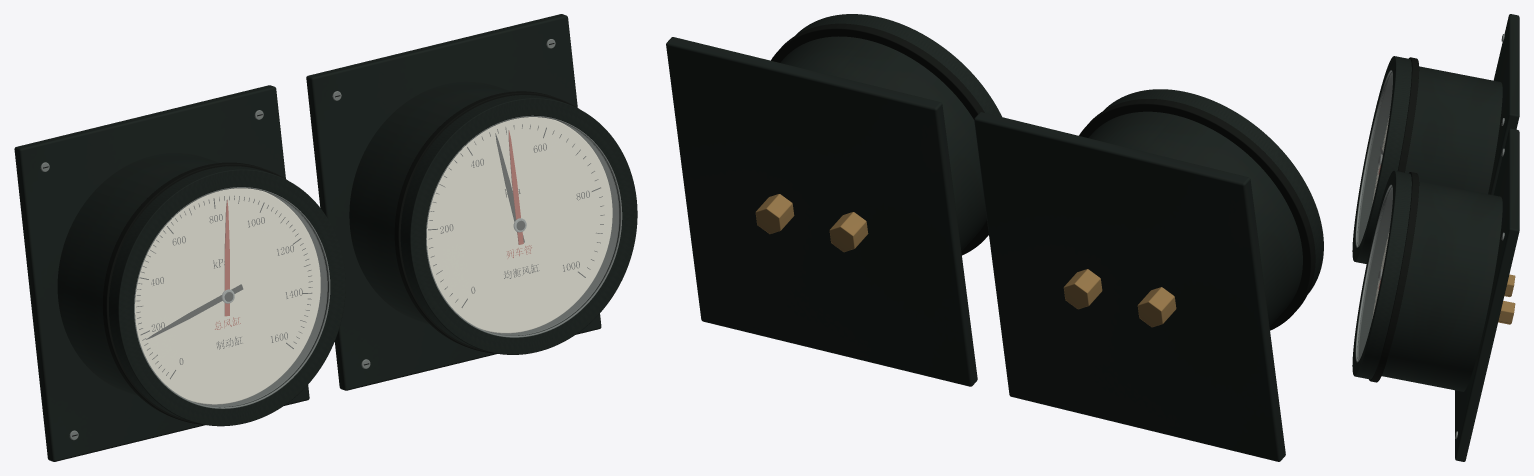
The model's file is duplex_air_gauges_study.glb.
The picture shows the model from 3 angles, left to right: view 1: azimuth 30°, elevation 25°; view 2: azimuth 150°, elevation 25°; view 3: azimuth 270°, elevation 25°; orthographic projection. The views are drawn at different scales.
Parts seen in each view (by area): view 1: MR_BC_Glass, BP_ER_Glass, MR_BC_Panel, BP_ER_Dial, MR_BC_Dial, BP_ER_Panel, MR_BC_Black_Bezel, BP_ER_Black_Bezel, BP_ER_SteelCase, MR_BC_SteelCase, MR_BC_Rubber_Seat, BP_ER_Rubber_Seat (+2 smaller); view 2: MR_BC_Panel, BP_ER_Panel, MR_BC_SteelCase, BP_ER_SteelCase, MR_BC_Rubber_Seat, MR_BC_Black_Bezel, BP_ER_Rubber_Seat, BP_ER_Black_Bezel, BP_ER_RearSocket_Red, MR_BC_RearSocket_Red, BP_ER_RearSocket_Black, MR_BC_RearSocket_Black; view 3: BP_ER_SteelCase, MR_BC_SteelCase, BP_ER_Black_Bezel, BP_ER_Panel, MR_BC_Black_Bezel, MR_BC_Panel, BP_ER_Glass, MR_BC_Glass, BP_ER_Rubber_Seat, MR_BC_Rubber_Seat, BP_ER_Steel_Inner_Lip, MR_BC_Steel_Inner_Lip (+1 smaller).
Boxes of the visible parts, x1,y1,x2,y2 form: MR_BC_Glass: (135, 188, 327, 406); BP_ER_Glass: (427, 117, 619, 335); MR_BC_Panel: (14, 85, 309, 461); BP_ER_Dial: (427, 117, 612, 333); MR_BC_Dial: (135, 188, 320, 404); BP_ER_Panel: (306, 14, 601, 390); MR_BC_Black_Bezel: (109, 166, 345, 426); BP_ER_Black_Bezel: (400, 95, 637, 354); BP_ER_SteelCase: (349, 81, 511, 330); MR_BC_SteelCase: (57, 153, 219, 402); MR_BC_Rubber_Seat: (102, 162, 302, 424); BP_ER_Rubber_Seat: (394, 91, 598, 353); MR_BC_Panel: (974, 112, 1285, 461); BP_ER_Panel: (666, 37, 977, 386); MR_BC_SteelCase: (1088, 111, 1302, 326); BP_ER_SteelCase: (780, 36, 986, 250); MR_BC_Rubber_Seat: (1079, 99, 1315, 330); MR_BC_Black_Bezel: (1103, 89, 1323, 293); BP_ER_Rubber_Seat: (771, 23, 988, 255); BP_ER_Black_Bezel: (795, 14, 1001, 116); BP_ER_RearSocket_Red: (829, 212, 868, 252); MR_BC_RearSocket_Red: (1137, 287, 1176, 327); BP_ER_RearSocket_Black: (755, 194, 794, 233); MR_BC_RearSocket_Black: (1063, 269, 1102, 309); BP_ER_SteelCase: (1381, 181, 1502, 391); MR_BC_SteelCase: (1405, 66, 1502, 193); BP_ER_Black_Bezel: (1352, 170, 1411, 379); BP_ER_Panel: (1455, 128, 1519, 461); MR_BC_Black_Bezel: (1352, 56, 1411, 263); MR_BC_Panel: (1488, 14, 1519, 195); BP_ER_Glass: (1358, 187, 1392, 360); MR_BC_Glass: (1358, 72, 1392, 245); BP_ER_Rubber_Seat: (1369, 172, 1419, 382); MR_BC_Rubber_Seat: (1397, 57, 1419, 172); BP_ER_Steel_Inner_Lip: (1355, 184, 1392, 362); MR_BC_Steel_Inner_Lip: (1355, 70, 1392, 247).
Bounding box in the file's own units: 0.282 × 0.1427 × 0.0924.
Materials: 8 (2 with a texture image).
